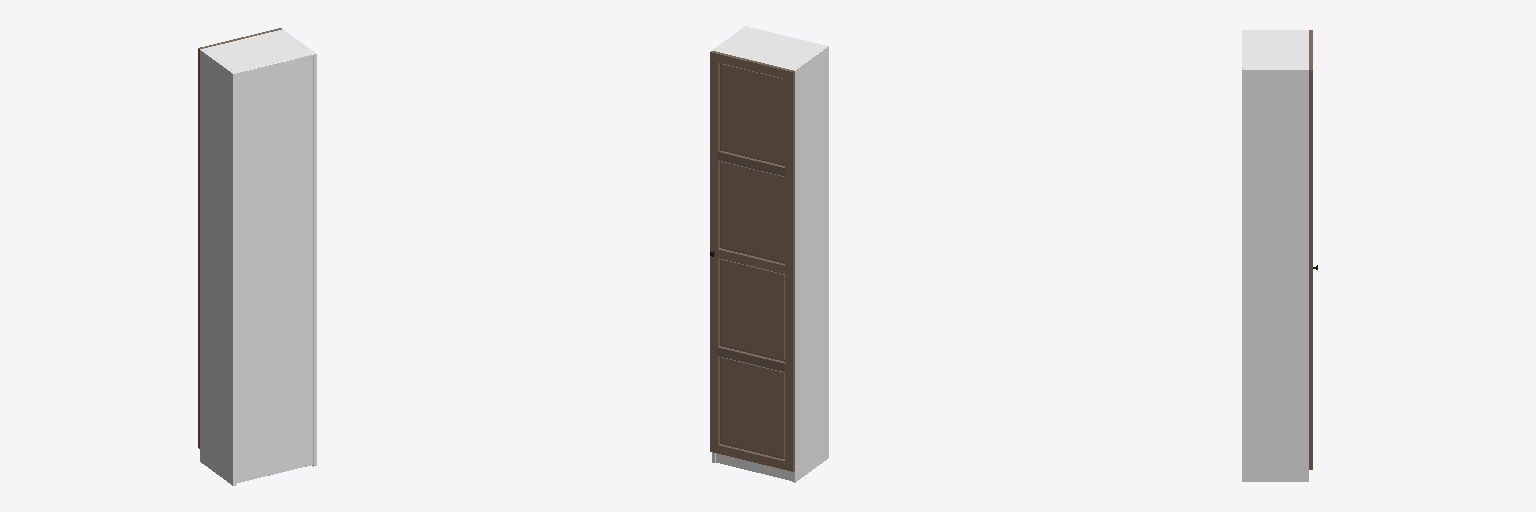
3 renders of one model, left to right at view 1: azimuth 30°, elevation 25°; view 2: azimuth 150°, elevation 25°; view 3: azimuth 270°, elevation 25°, orthographic.
Visible parts, largest first — view 1: Mesh5 Group5 Model, Mesh2 Group2 Model, Mesh4 Group4 Model, Mesh3 Group3 Model, Mesh10 Group9 PaxDOOR1 Model; view 2: Mesh2 Group2 Model, Mesh17 Group16 PaxDOOR1 Model, Mesh12 Group11 PaxDOOR1 Model, Mesh7 Group6 PaxDOOR1 Model, Mesh8 Group7 PaxDOOR1 Model, Mesh10 Group9 PaxDOOR1 Model, Mesh9 Group8 PaxDOOR1 Model, Mesh4 Group4 Model, Mesh1 Group1 Model, Mesh13 Group12 PaxDOOR1 Model, Mesh16 Group15 PaxDOOR1 Model, Mesh15 Group14 PaxDOOR1 Model (+2 smaller); view 3: Mesh3 Group3 Model, Mesh4 Group4 Model, Mesh9 Group8 PaxDOOR1 Model.
Part boxes in pixels (x1,y1,x2,y2): Mesh5 Group5 Model: (237,55,312,482); Mesh2 Group2 Model: (200,49,236,485); Mesh4 Group4 Model: (204,30,312,72); Mesh3 Group3 Model: (281,29,316,466); Mesh10 Group9 PaxDOOR1 Model: (198,46,207,448); Mesh2 Group2 Model: (792,45,828,482); Mesh17 Group16 PaxDOOR1 Model: (720,259,784,361); Mesh12 Group11 PaxDOOR1 Model: (720,356,784,458); Mesh7 Group6 PaxDOOR1 Model: (720,63,784,165); Mesh8 Group7 PaxDOOR1 Model: (720,161,784,263); Mesh10 Group9 PaxDOOR1 Model: (785,69,794,471); Mesh9 Group8 PaxDOOR1 Model: (710,51,719,453); Mesh4 Group4 Model: (716,27,823,69); Mesh1 Group1 Model: (716,453,791,480); Mesh13 Group12 PaxDOOR1 Model: (718,53,785,78); Mesh16 Group15 PaxDOOR1 Model: (718,151,784,176); Mesh15 Group14 PaxDOOR1 Model: (718,248,784,273); Mesh3 Group3 Model: (1242,69,1308,481); Mesh4 Group4 Model: (1243,31,1308,68); Mesh9 Group8 PaxDOOR1 Model: (1309,66,1312,469).
Bounding box in the file's own units: 0.2045 × 0.9654 × 0.1625.